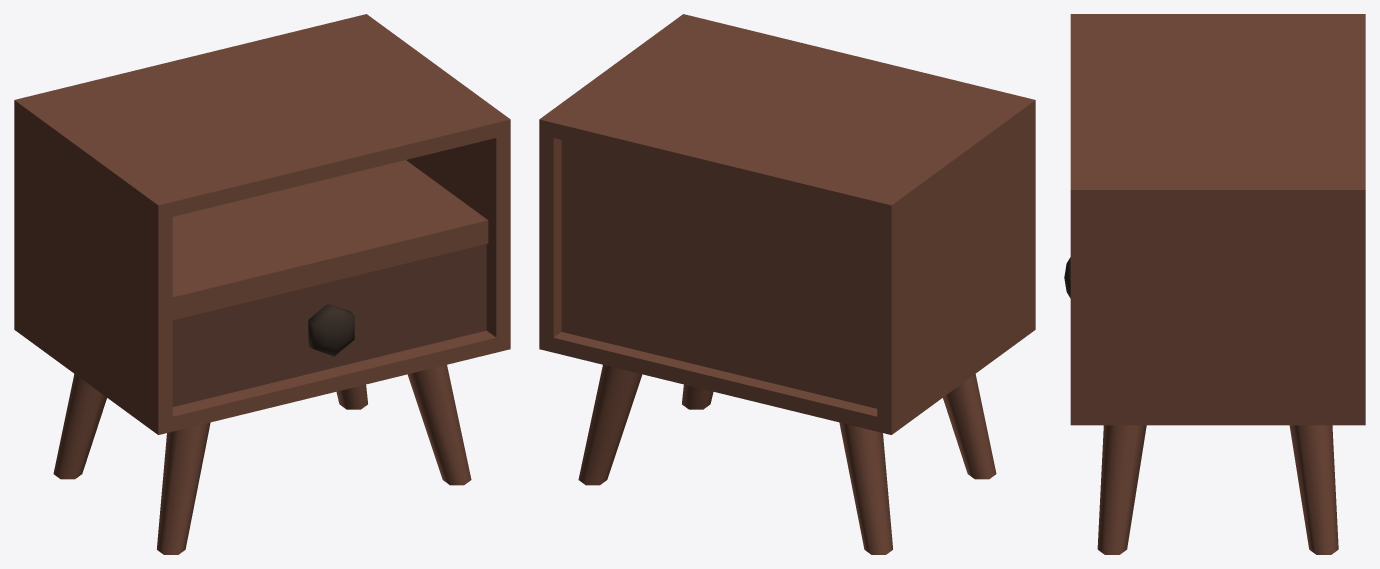
The model's file is Nightstand_01.fbx.
3 views of the same model, side by side, from view 1: azimuth 30°, elevation 25°; view 2: azimuth 150°, elevation 25°; view 3: azimuth 270°, elevation 25° (orthographic). The views are drawn at different scales.
Visible parts, largest first — view 1: Nightstand_01, Nightstand_01_Drawer; view 2: Nightstand_01; view 3: Nightstand_01.
Boxes of the visible parts, x1=… form: Nightstand_01: x1=14, y1=14, x2=510, y2=554; Nightstand_01_Drawer: x1=172, y1=244, x2=486, y2=406; Nightstand_01: x1=539, y1=14, x2=1035, y2=554; Nightstand_01: x1=1070, y1=14, x2=1365, y2=554.
Bounding box in the file's own units: 0.6571 × 0.6545 × 0.4753.
